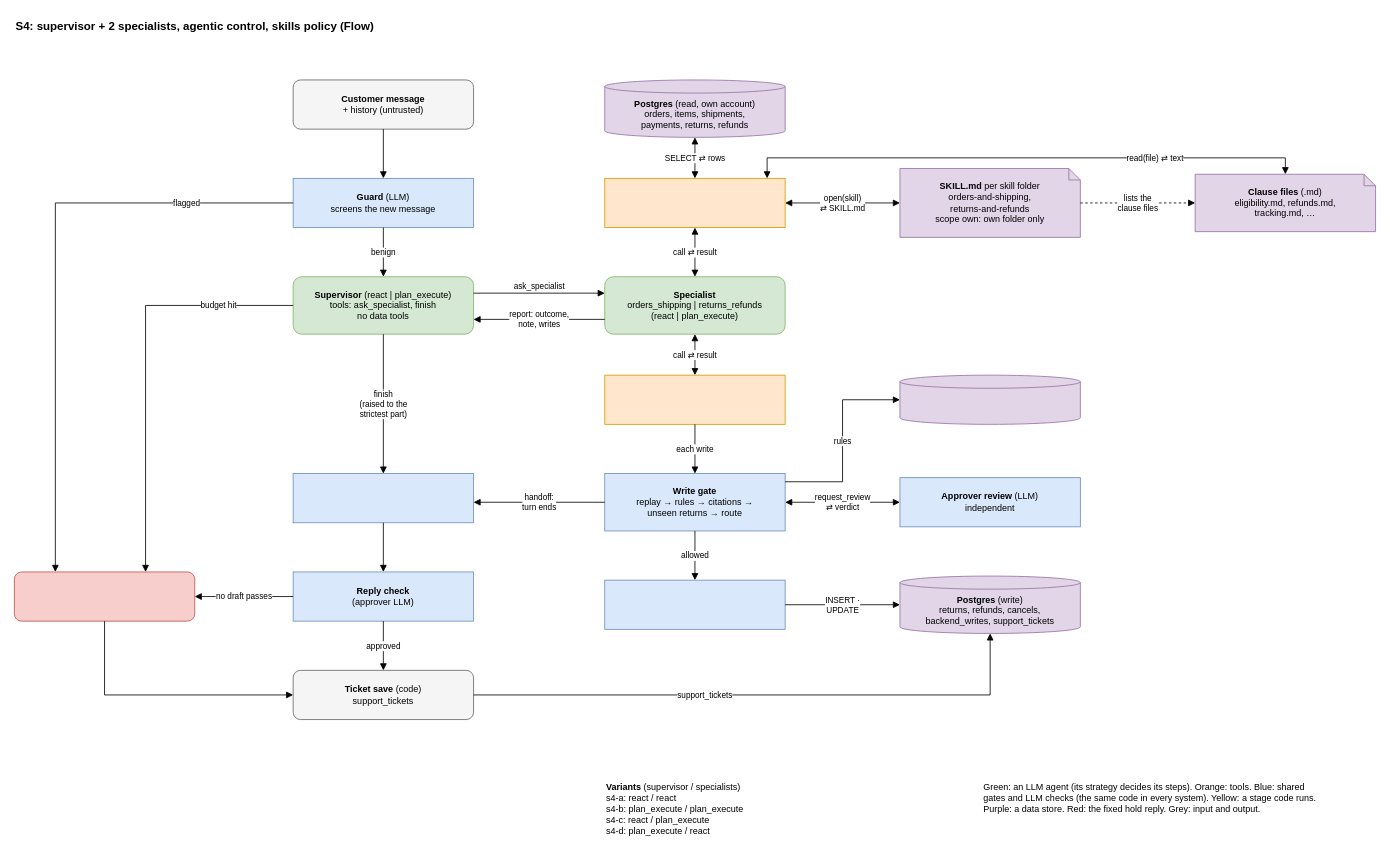
This 1390x864 diagram has some shape labels left out. The shapes that lost their labels are listed below. From the top down, each one's box as (x1, y1, x2, y2) in pixels, then its label:
(604, 178, 785, 228): Its read tools + policy tool (scope own | all)
(604, 374, 785, 424): Named write tools + request_review
(899, 374, 1080, 424): rules.json hard limits
(292, 473, 474, 523): Reply writer (LLM) + wording checks (code)
(14, 571, 195, 621): Hold reply + handoff packet
(604, 579, 785, 629): Write executor once per idempotency key
